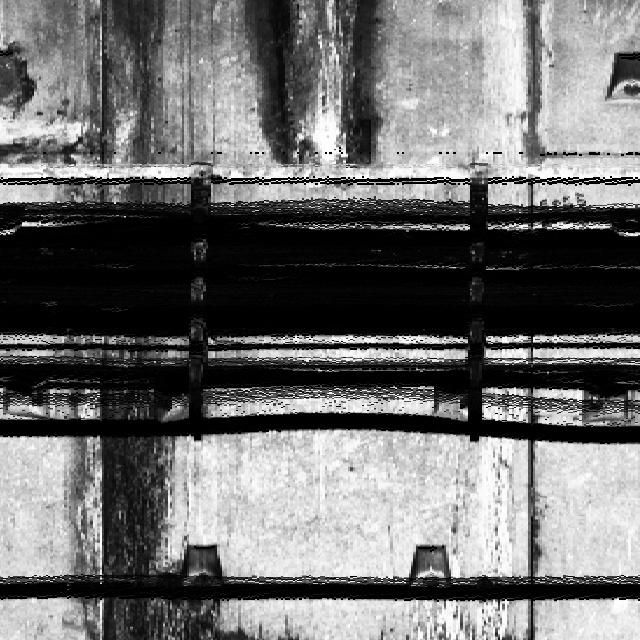leakage: (48, 336, 212, 639), (232, 0, 397, 169), (69, 0, 169, 201), (505, 0, 560, 164)
